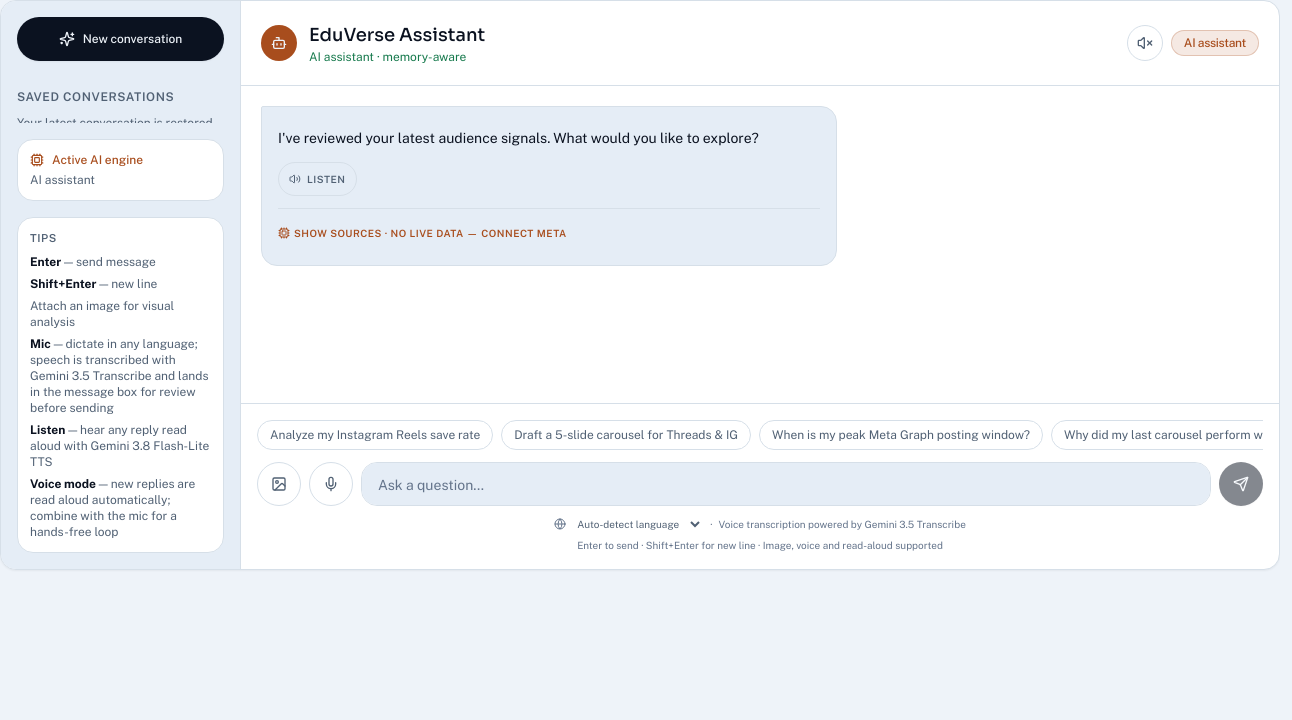
Test: voice meter render isolation › does not commit a React update for each animation frame while recording
Click the button named "Record a voice message" at (331, 484), box [309,462,353,506]
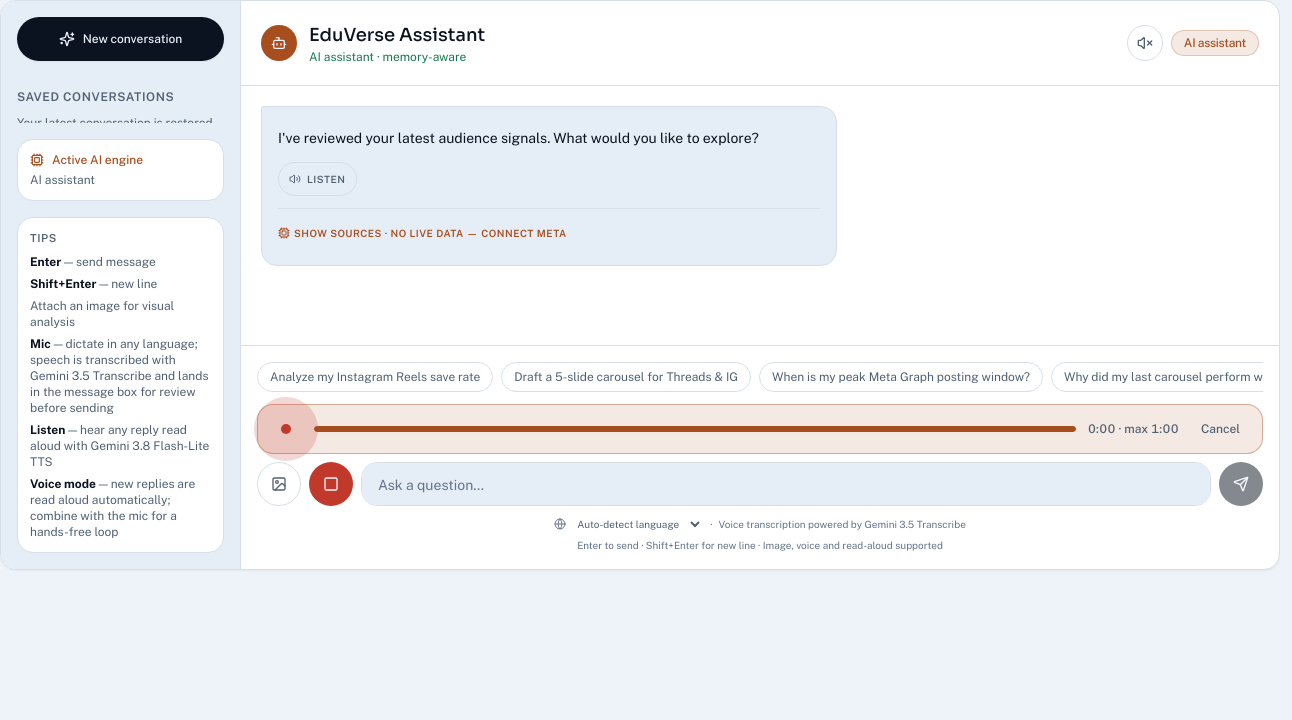
Expected: the message "0:00 · max 1:00 Cancel" is shown, [257,404,1263,454]
